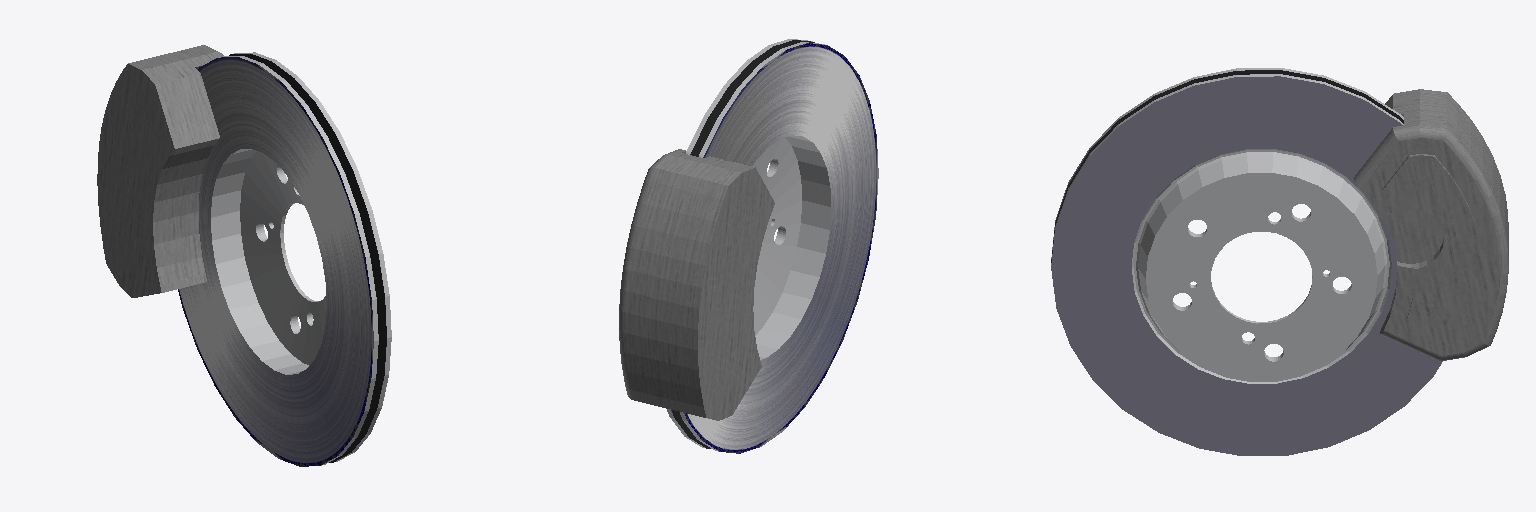
The picture shows the model from 3 angles: view 1: azimuth 30°, elevation 25°; view 2: azimuth 150°, elevation 25°; view 3: azimuth 270°, elevation 25°; orthographic projection.
Parts seen in each view (by area): view 1: Mesh1 Component_3_1 Component_5_1 Group1 Model, Mesh5 Component_4_1 Component_5_1 Group1 Model; view 2: Mesh1 Component_3_1 Component_5_1 Group1 Model, Mesh5 Component_4_1 Component_5_1 Group1 Model; view 3: Mesh1 Component_3_1 Component_5_1 Group1 Model, Mesh5 Component_4_1 Component_5_1 Group1 Model.
Part boxes in pixels (bbox=[...]): Mesh1 Component_3_1 Component_5_1 Group1 Model: bbox=[178, 52, 391, 466]; Mesh5 Component_4_1 Component_5_1 Group1 Model: bbox=[97, 45, 223, 297]; Mesh1 Component_3_1 Component_5_1 Group1 Model: bbox=[667, 39, 878, 453]; Mesh5 Component_4_1 Component_5_1 Group1 Model: bbox=[619, 149, 774, 420]; Mesh1 Component_3_1 Component_5_1 Group1 Model: bbox=[1051, 68, 1442, 455]; Mesh5 Component_4_1 Component_5_1 Group1 Model: bbox=[1354, 89, 1508, 361].
Size of the model in its own units: 91.11 by 374 by 408.
5 materials, 2 textured.